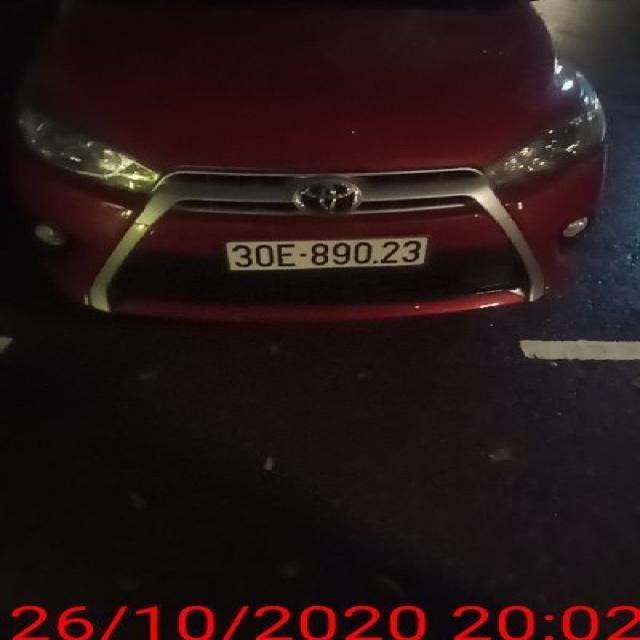bien_so_oto: (221, 232, 432, 272)
